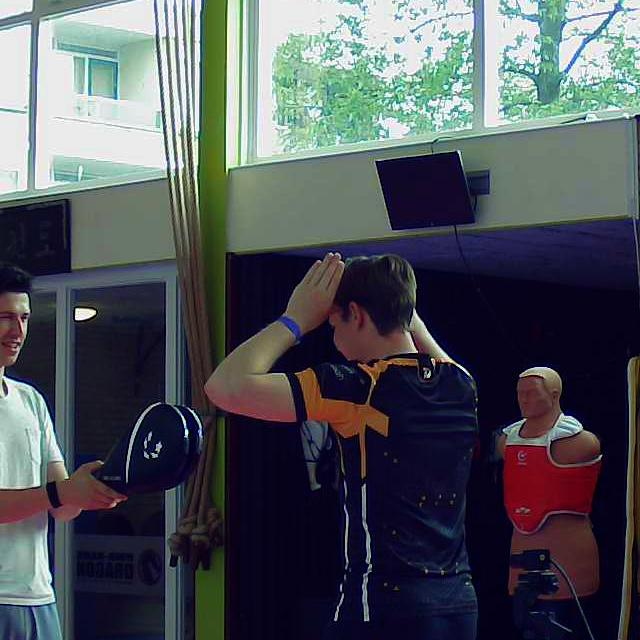paddle: (99, 402, 203, 494)
